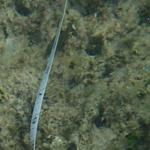dead: (10, 2, 148, 146)
